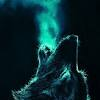Lobo: (23, 31, 84, 98)
